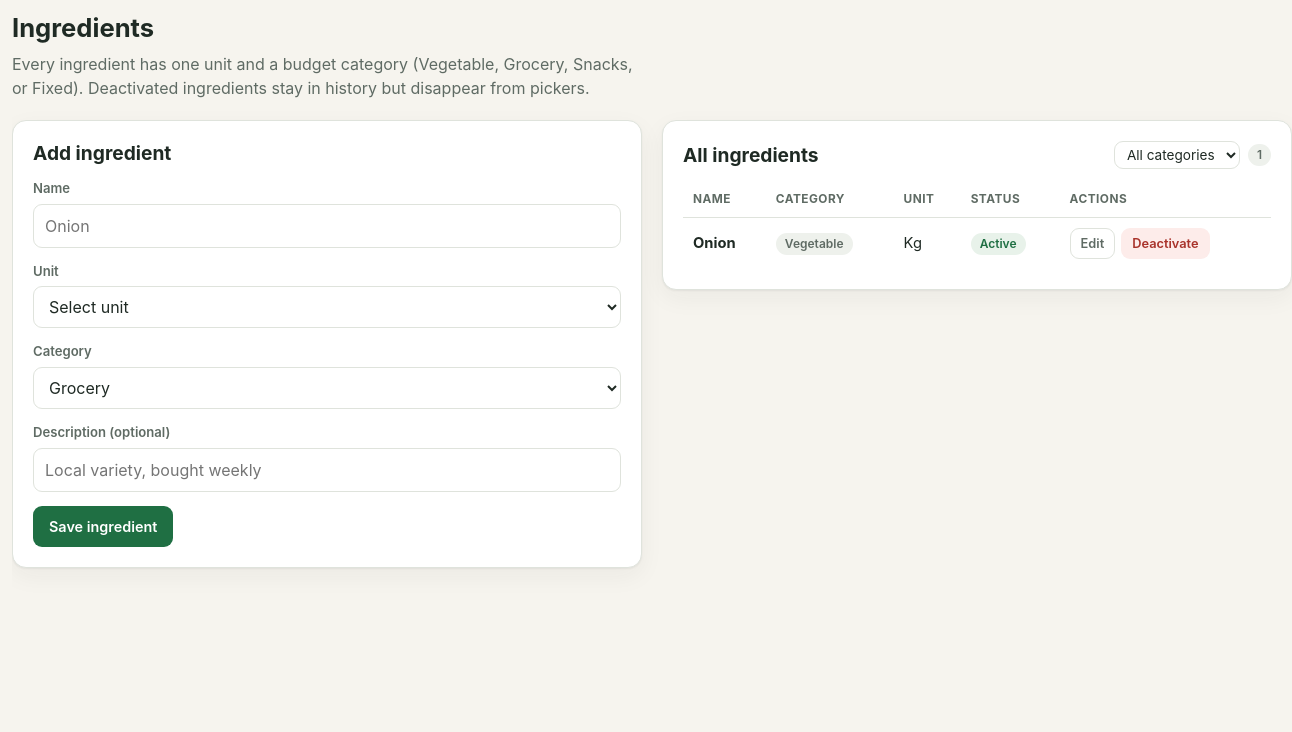
Scenario: Ingredients screen › requires a unit before saving
Expected: the text "Onion" is shown, 693,234 -> 736,252
In the field labelled "Name": x=327, y=226 33,204 -> 621,248, type "Tomato"
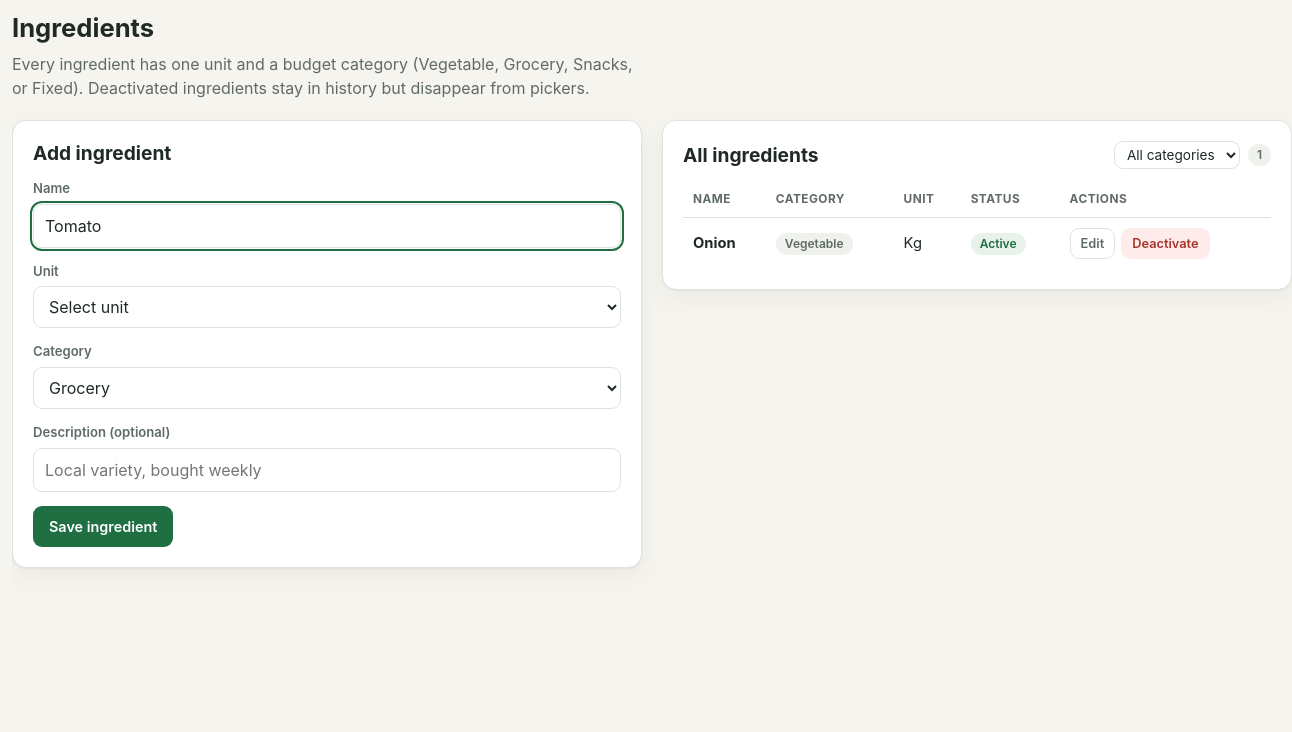
Click the button "Save ingredient": x=103, y=526 33,506 -> 173,547
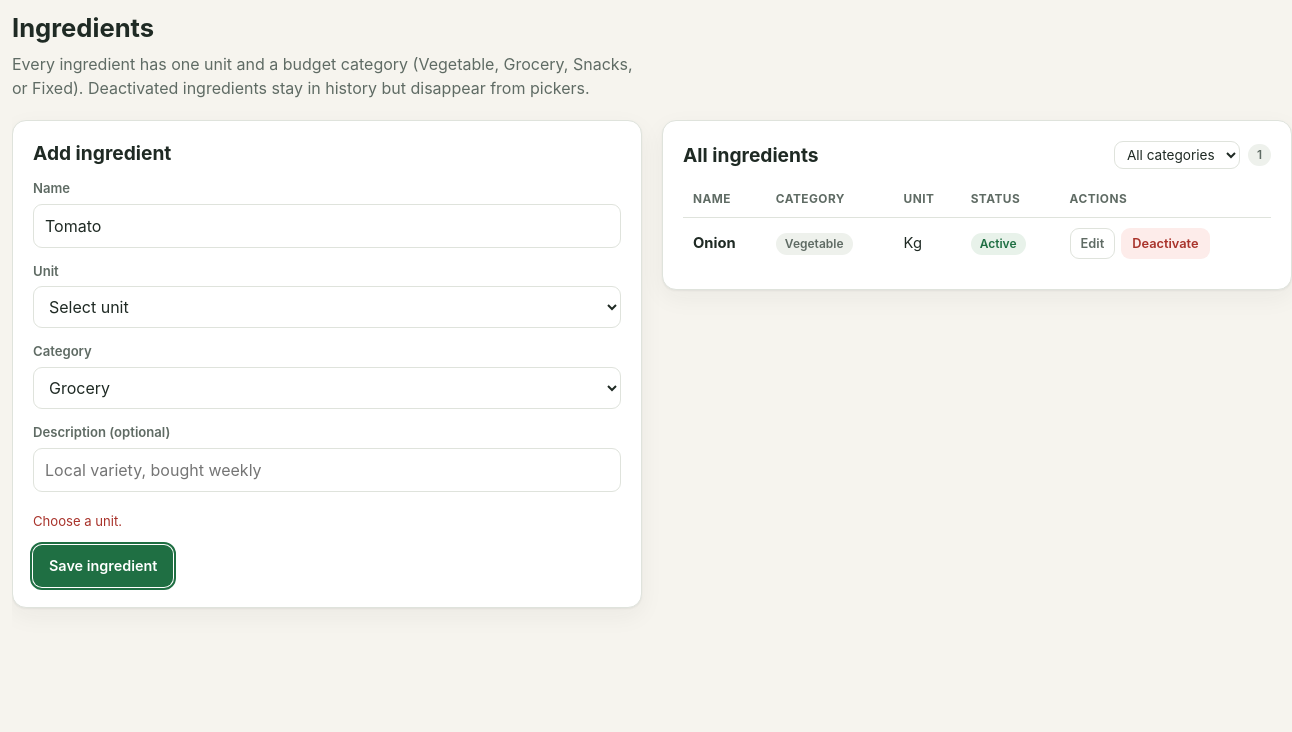
Expected: the text "Choose a unit." is shown, 33,513 -> 122,529
